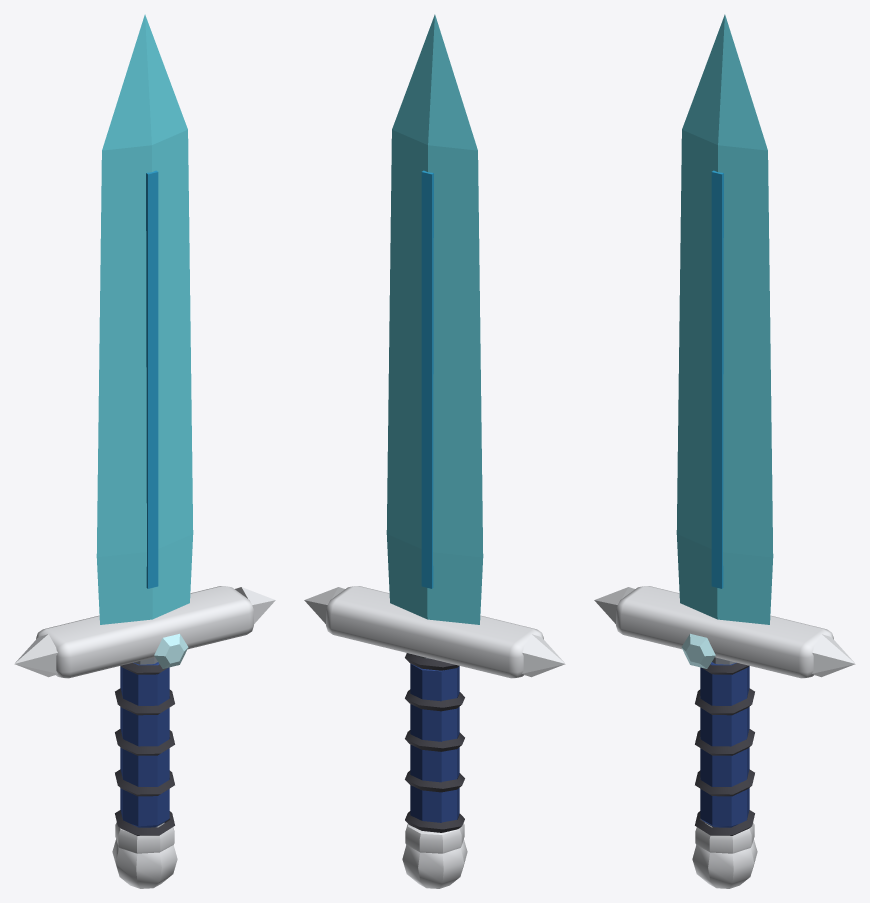
The model's file is DiamondSword.fbx.
3 renders of one model, left to right at view 1: azimuth 30°, elevation 25°; view 2: azimuth 150°, elevation 25°; view 3: azimuth 330°, elevation 25°, orthographic.
Parts seen in each view (by area): view 1: DiamondSword; view 2: DiamondSword; view 3: DiamondSword.
Part boxes in pixels (x1,y1,x2,y2): DiamondSword: (14, 14, 275, 888); DiamondSword: (304, 14, 565, 888); DiamondSword: (594, 14, 855, 888).
Bounding box in the file's own units: 1.52 × 4.84 × 0.47.
Materials: 1 (1 with a texture image).
